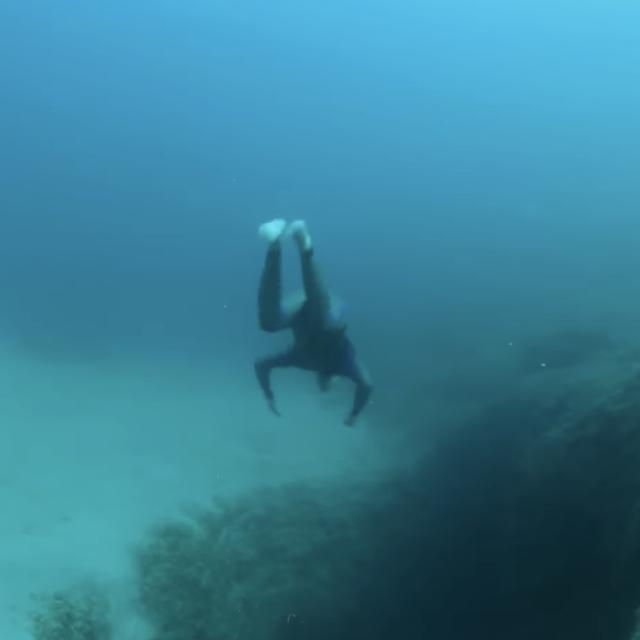human: (252, 212, 378, 427)
